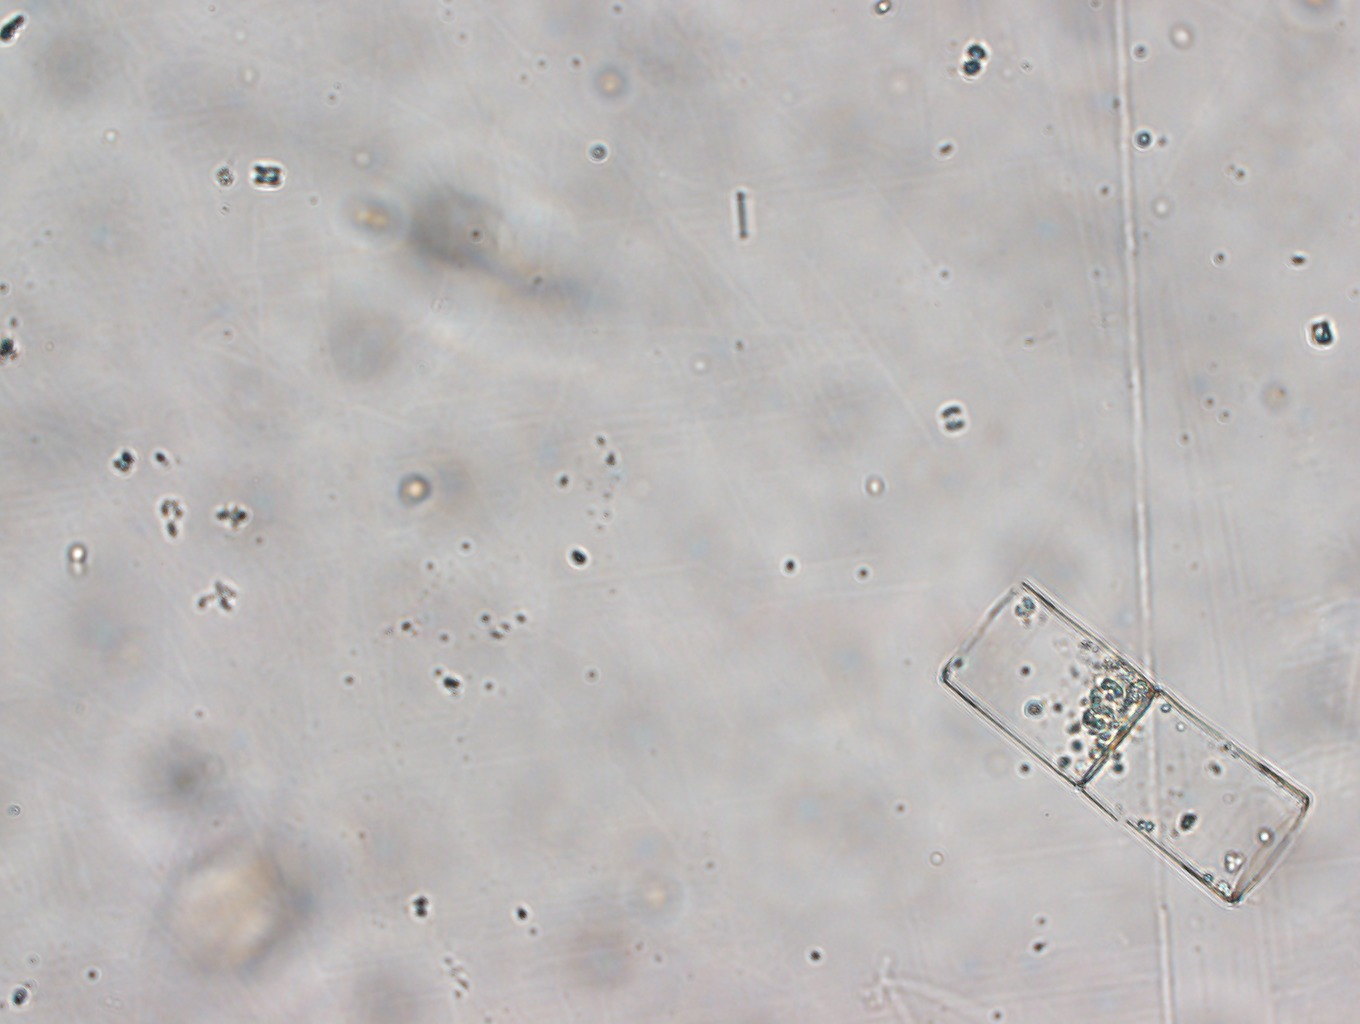guinardia flaccida: (941, 579, 1309, 908)
